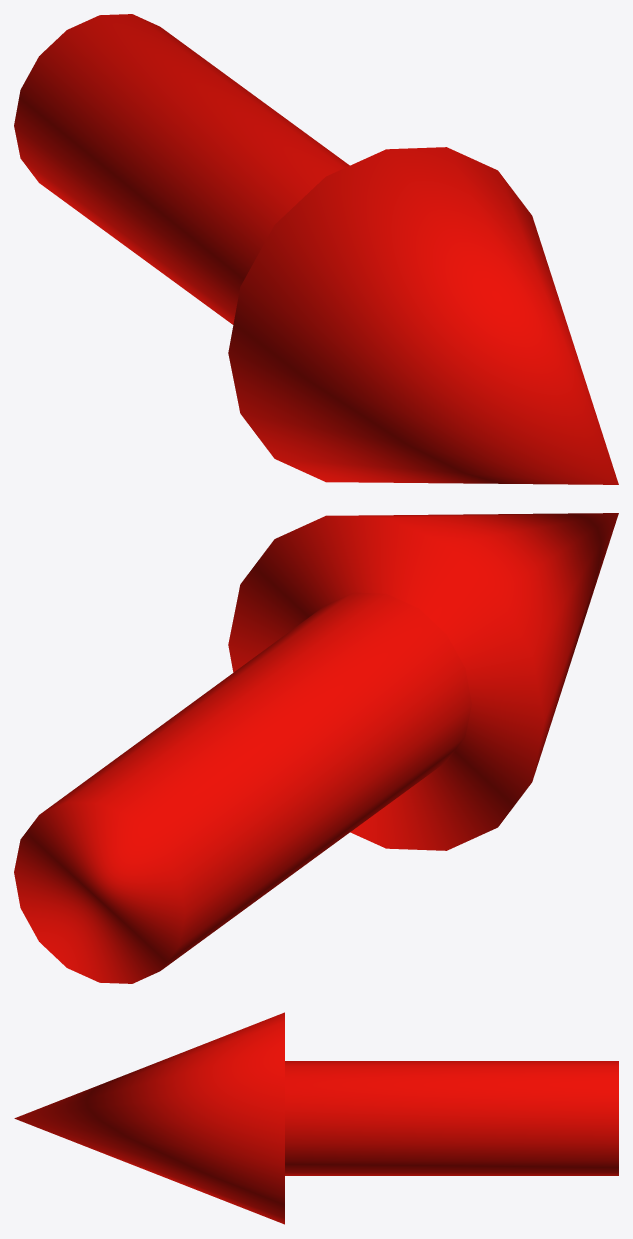
File: petard.fbx
3 views of the same model, one above another, from view 1: azimuth 30°, elevation 25°; view 2: azimuth 150°, elevation 25°; view 3: azimuth 270°, elevation 25° (orthographic). The views are drawn at different scales.
Parts seen in each view (by area): view 1: Cylinder; view 2: Cylinder; view 3: Cylinder.
Boxes of the visible parts, bbox=[...] form: Cylinder: bbox=[14, 14, 618, 484]; Cylinder: bbox=[14, 513, 618, 983]; Cylinder: bbox=[14, 1012, 618, 1224].
Bounding box in the file's own units: 61.18 × 61.18 × 174.
